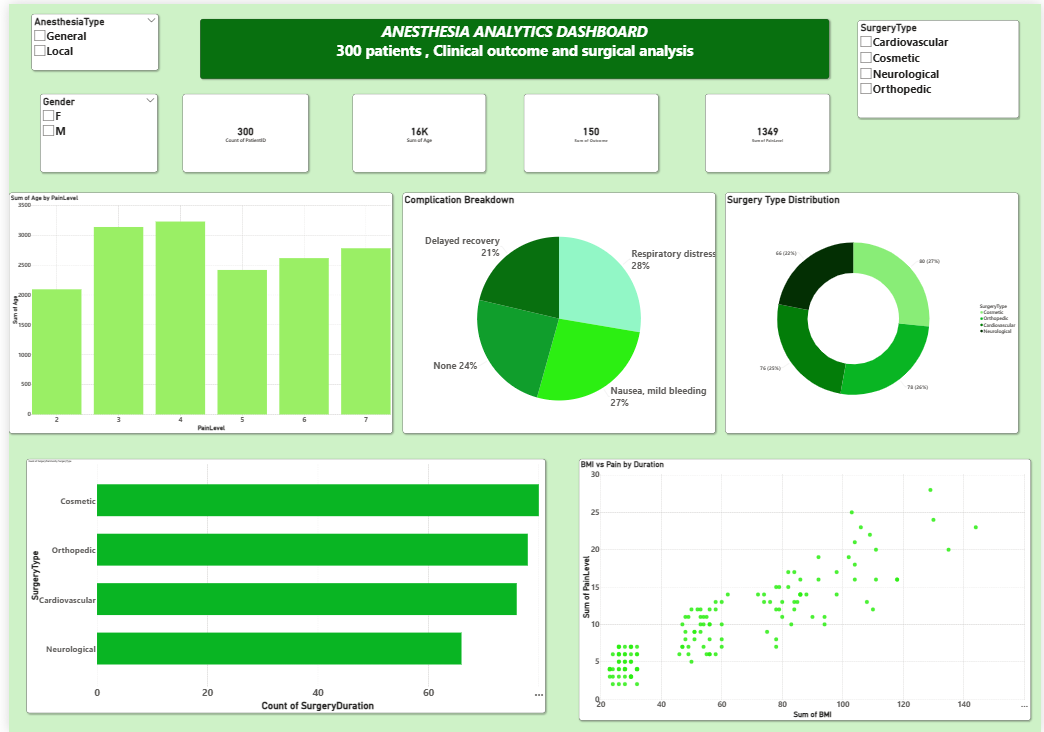

This screenshot's page, from the dashboard's own definition file:
{"tool":"powerbi","page":{"name":"Page 1","canvas":[7500,5300],"ordinal":0},"visuals":[{"type":"textbox","box":[1394.3,106.6,4573.6,435.2],"z":0},{"type":"donutChart","title":"Surgery Type Distribution","fields":{"Y":["CountNonNull(Anesthesia_Dataset (1).SurgeryType)"],"Category":["Anesthesia_Dataset (1).SurgeryType"]},"box":[5213,1376.5,2131.4,1749.5],"z":1000},{"type":"pieChart","title":"Complication Breakdown","fields":{"Y":["CountNonNull(Anesthesia_Dataset (1).Complications)"],"Category":["Anesthesia_Dataset (1).Complications"]},"box":[2859.6,1376.5,2273.5,1749.5],"z":2000},{"type":"scatterChart","title":"BMI vs Pain by Duration","fields":{"X":["Sum(Anesthesia_Dataset (1).BMI)"],"Y":["Sum(Anesthesia_Dataset (1).PainLevel)"],"Category":["Anesthesia_Dataset (1).SurgeryDuration"]},"box":[4147.3,3312.5,3285.9,1900.5],"z":3000},{"type":"columnChart","fields":{"Category":["Anesthesia_Dataset (1).PainLevel"],"Y":["Sum(Anesthesia_Dataset (1).Age)"]},"box":[0,1376.5,2788.6,1749.5],"z":4000},{"type":"slicer","fields":{"Values":["Anesthesia_Dataset (1).AnesthesiaType"]},"box":[159.9,71,923.6,408.5],"z":5000},{"type":"barChart","fields":{"Y":["CountNonNull(Anesthesia_Dataset (1).SurgeryDuration)"],"Category":["Anesthesia_Dataset (1).SurgeryType"]},"box":[124.3,3312.5,3774.3,1847.2],"z":6000},{"type":"card","fields":{"Values":["CountNonNull(Anesthesia_Dataset (1).PatientID)"]},"box":[1261.1,657.2,914.7,568.4],"z":7000},{"type":"card","fields":{"Values":["Sum(Anesthesia_Dataset (1).Age)"]},"box":[2495.5,657.2,968,568.4],"z":8000},{"type":"card","fields":{"Values":["Sum(Anesthesia_Dataset (1).PainLevel)"]},"box":[5062,657.2,905.8,568.4],"z":10000},{"type":"card","fields":{"Values":["Sum(Anesthesia_Dataset (1).Outcome)"]},"box":[3747.7,657.2,976.9,568.4],"z":11000},{"type":"slicer","fields":{"Values":["Anesthesia_Dataset (1).SurgeryType"]},"box":[6172.1,115.4,1172.3,710.5],"z":12000},{"type":"slicer","fields":{"Values":["Anesthesia_Dataset (1).Gender"]},"box":[230.9,657.2,852.6,568.4],"z":13000}]}

Visuals, with their boxes in screenshot pixels (x1, y1, x2, y2), scaled from the page's 7500x5300 canvas onto the 1044x732 screenshot:
textbox: detection(194, 15, 831, 75)
"Surgery Type Distribution" donutChart: detection(726, 190, 1022, 432)
"Complication Breakdown" pieChart: detection(398, 190, 715, 432)
"BMI vs Pain by Duration" scatterChart: detection(577, 458, 1035, 720)
columnChart - Anesthesia_Dataset (1).PainLevel x Sum(Anesthesia_Dataset (1).Age): detection(0, 190, 388, 432)
slicer - Anesthesia_Dataset (1).AnesthesiaType: detection(22, 10, 151, 66)
barChart - CountNonNull(Anesthesia_Dataset (1).SurgeryDuration) x Anesthesia_Dataset (1).SurgeryType: detection(17, 458, 543, 713)
card - CountNonNull(Anesthesia_Dataset (1).PatientID): detection(176, 91, 303, 169)
card - Sum(Anesthesia_Dataset (1).Age): detection(347, 91, 482, 169)
card - Sum(Anesthesia_Dataset (1).PainLevel): detection(705, 91, 831, 169)
card - Sum(Anesthesia_Dataset (1).Outcome): detection(522, 91, 658, 169)
slicer - Anesthesia_Dataset (1).SurgeryType: detection(859, 16, 1022, 114)
slicer - Anesthesia_Dataset (1).Gender: detection(32, 91, 151, 169)
